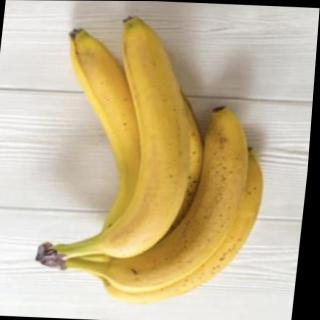banana: (106, 98, 258, 296), (93, 12, 209, 260), (46, 25, 176, 246), (105, 138, 271, 308)
